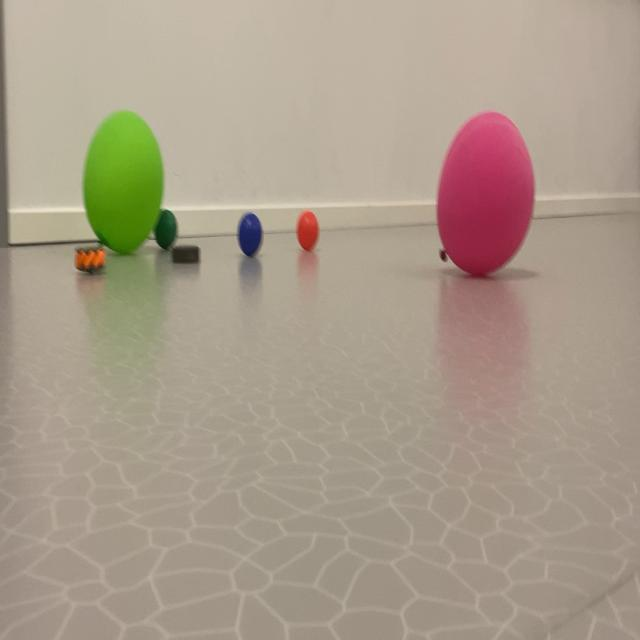7: (284, 154, 334, 301)
green ball: (233, 142, 277, 302)
red ball: (149, 184, 183, 258)
